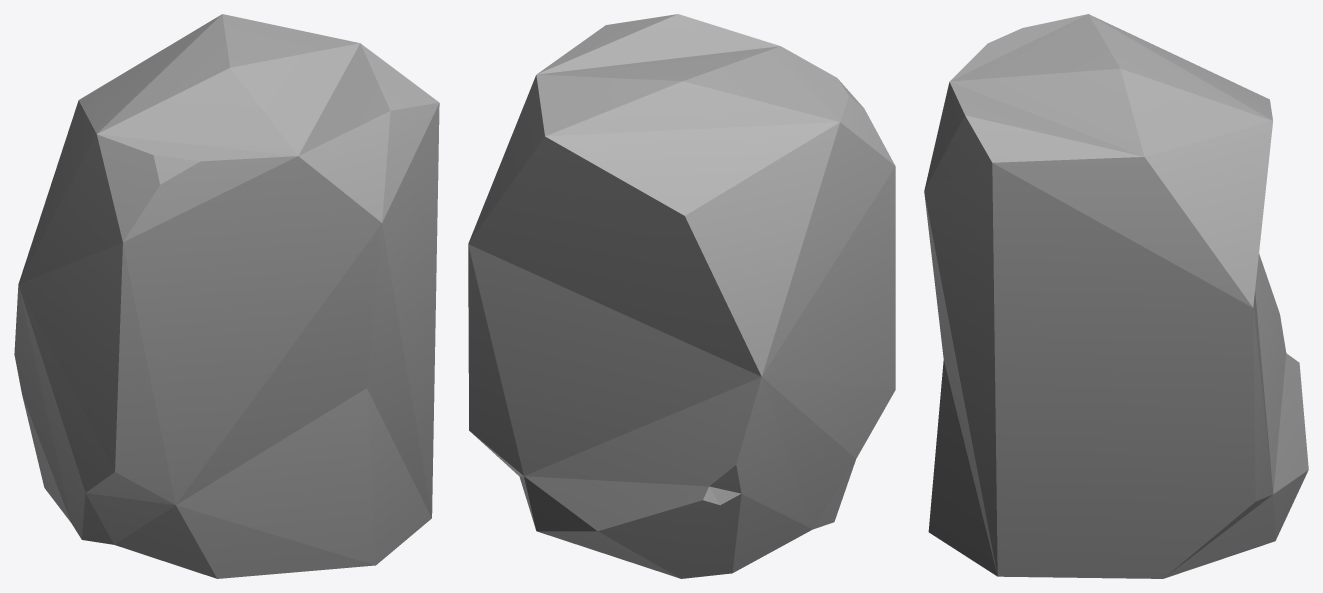
File: stone small 6.fbx
The picture shows the model from 3 angles, left to right: view 1: azimuth 30°, elevation 25°; view 2: azimuth 150°, elevation 25°; view 3: azimuth 270°, elevation 25°; orthographic projection. The views are drawn at different scales.
Parts seen in each view (by area): view 1: stone small 6; view 2: stone small 6; view 3: stone small 6.
Part boxes in pixels (bbox=[...]): stone small 6: bbox=[14, 14, 439, 578]; stone small 6: bbox=[468, 14, 895, 578]; stone small 6: bbox=[924, 14, 1308, 578].
Size of the model in its own units: 106 by 137 by 108.
